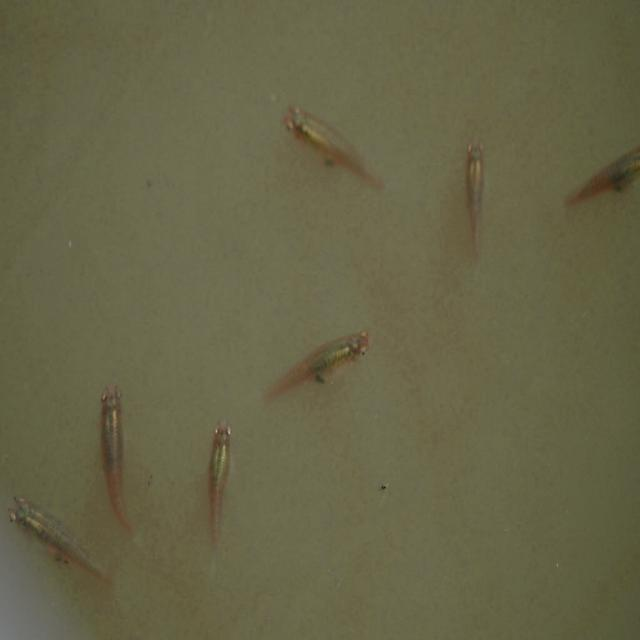Sivrisinek Baligi: (5, 496, 116, 590), (283, 100, 385, 192), (262, 325, 368, 409), (566, 132, 640, 212), (100, 381, 136, 540), (202, 418, 234, 578), (459, 135, 489, 279)
